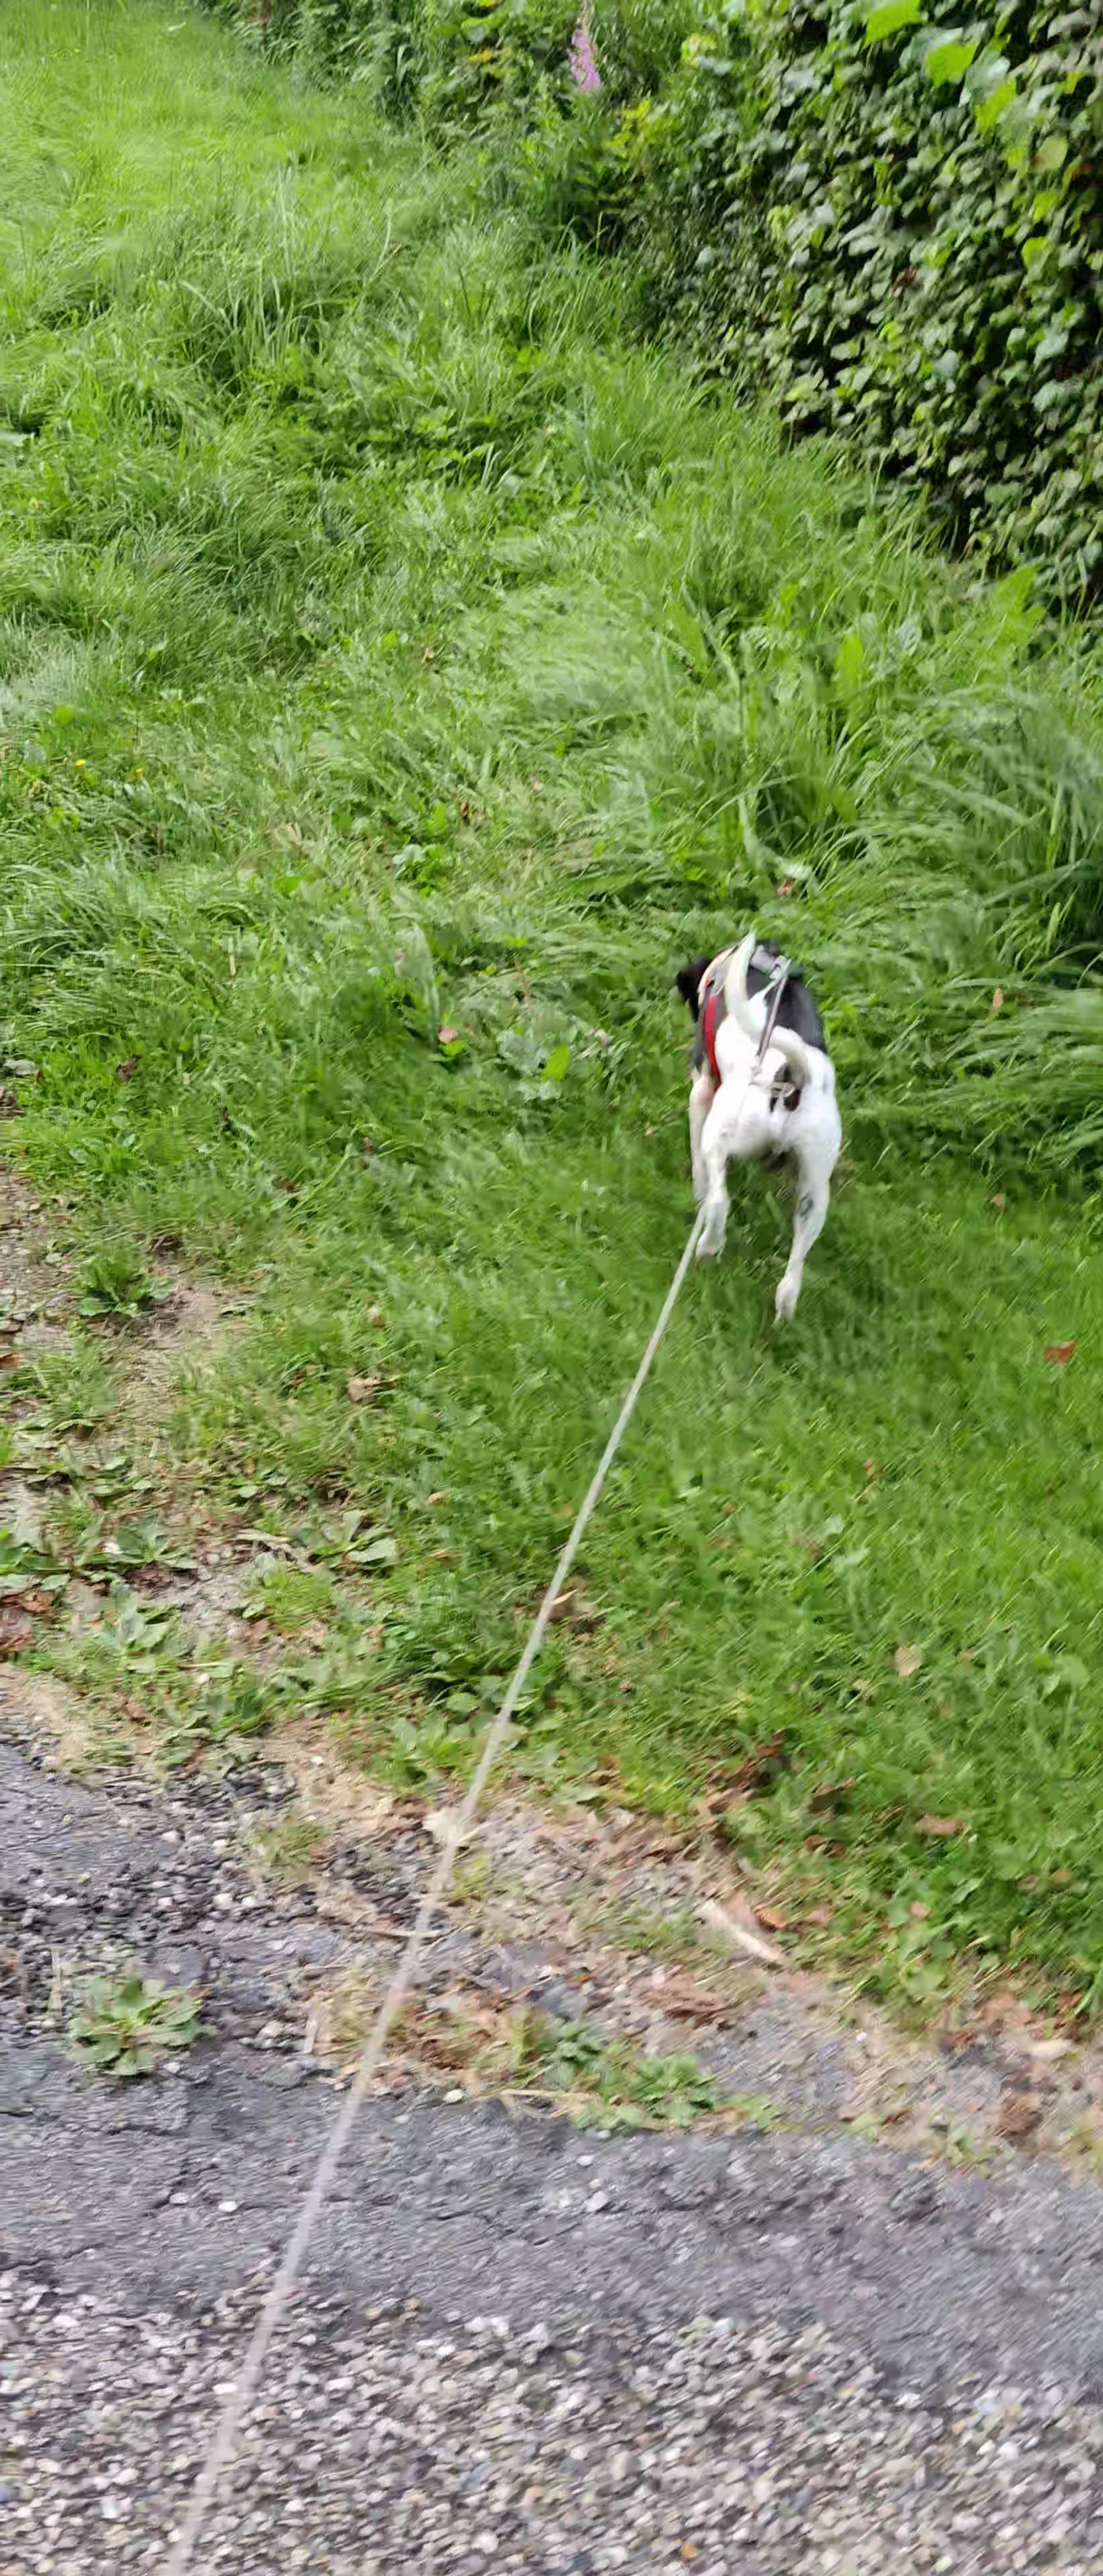Dog: (631, 910, 863, 1352)
